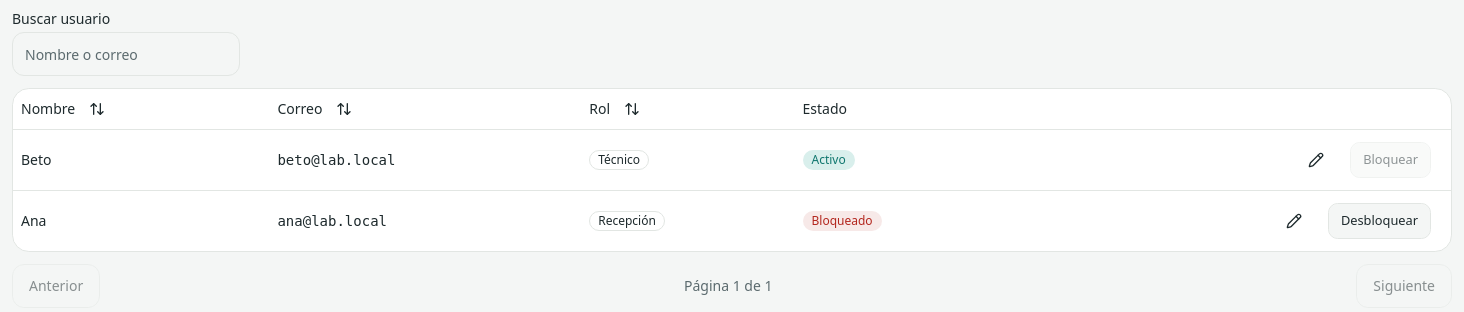
Scenario: UsersTable › busca por correo
This screenshot has width=1464, height=312.
Type "ana@" into the search field labelled "Buscar usuario" at [126, 54], box [12,32,240,76]
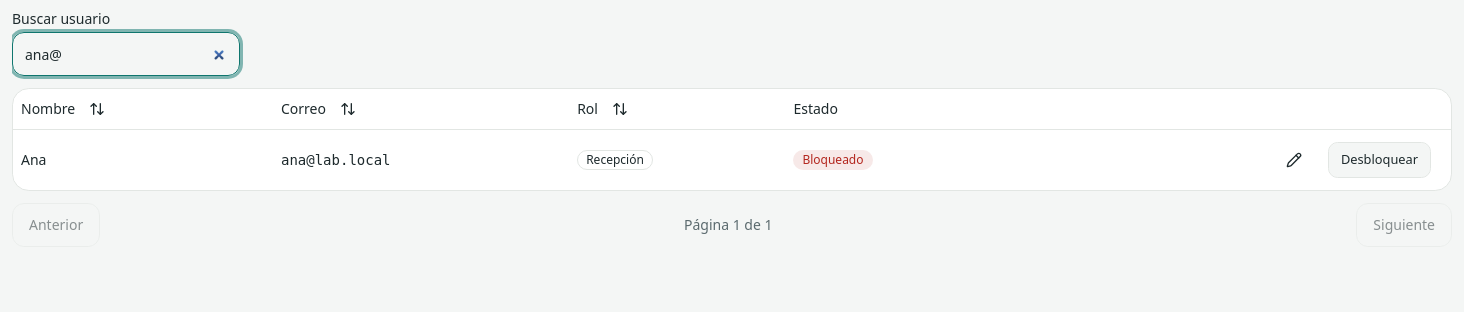
Expected: the text "Ana" is shown, [21,150,46,168]
Expected: the text "Beto" is gone
